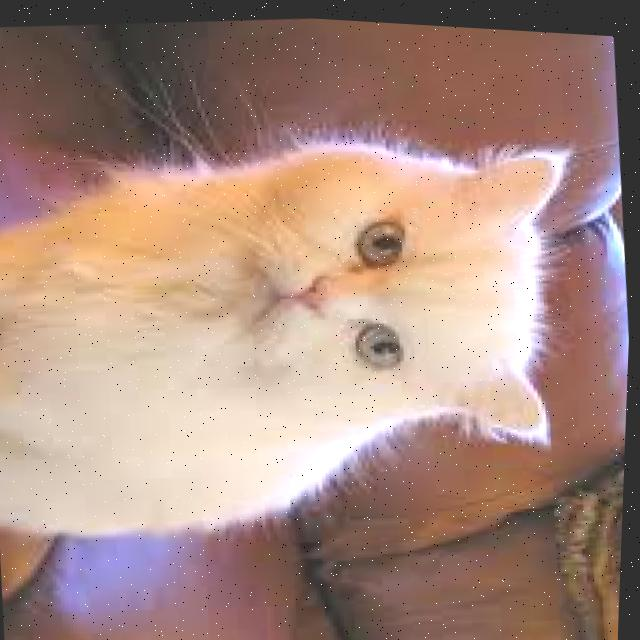Persian: (0, 92, 606, 572)
